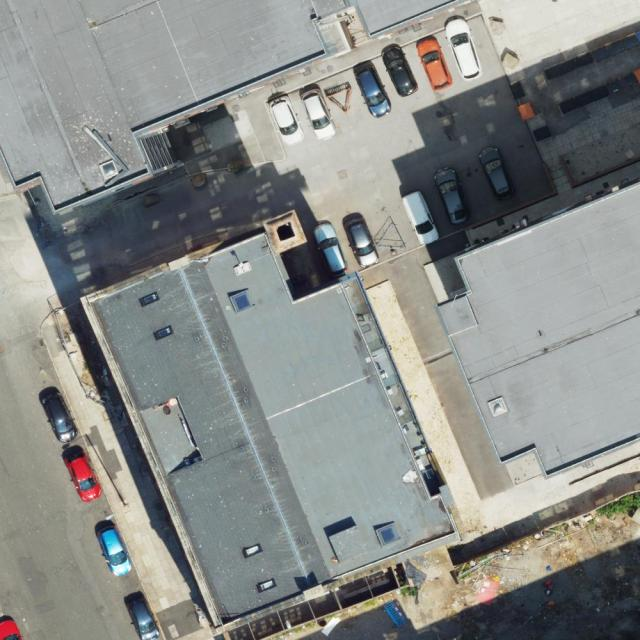roof: (79, 209, 465, 636), (0, 0, 463, 214), (438, 181, 639, 480)
skylight: (375, 522, 402, 548), (231, 289, 255, 315), (255, 575, 280, 594), (138, 291, 162, 309), (488, 395, 509, 415), (152, 325, 175, 343), (100, 159, 119, 179), (241, 543, 264, 558)
